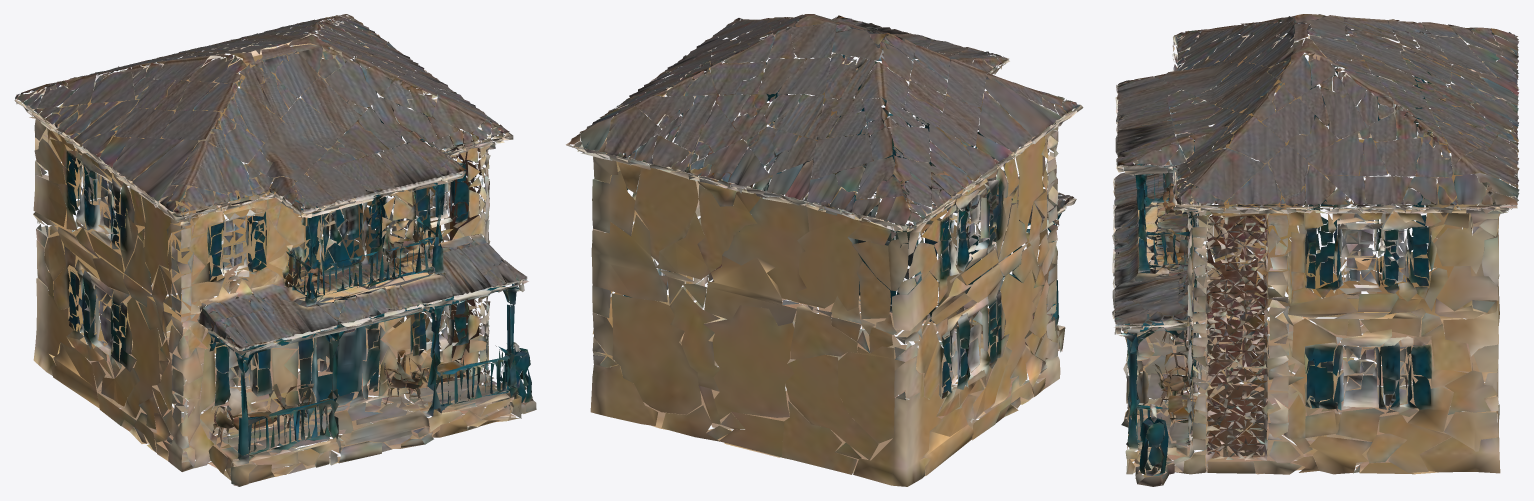
File: house-veranda.glb
The picture shows the model from 3 angles, left to right: view 1: azimuth 30°, elevation 25°; view 2: azimuth 150°, elevation 25°; view 3: azimuth 270°, elevation 25°; orthographic projection. The views are drawn at different scales.
Visible parts, largest first — view 1: Mesh_0; view 2: Mesh_0; view 3: Mesh_0.
Boxes of the visible parts, bbox=[...] form: Mesh_0: bbox=[14, 14, 536, 486]; Mesh_0: bbox=[566, 14, 1083, 486]; Mesh_0: bbox=[1112, 14, 1519, 486].
Size of the model in its own units: 1.9 by 1.82 by 1.84.
Materials: 1 (1 with a texture image).
